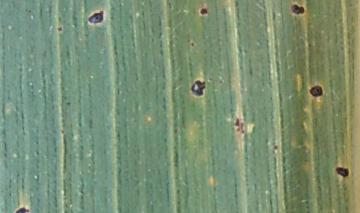tarspot: (191, 79, 206, 97), (87, 10, 104, 25), (289, 2, 305, 15), (308, 85, 324, 98), (335, 166, 350, 179), (199, 6, 208, 16), (233, 118, 241, 128), (16, 207, 29, 213), (56, 25, 64, 32), (65, 100, 72, 106), (273, 143, 278, 151), (241, 129, 246, 135), (191, 41, 195, 46)
